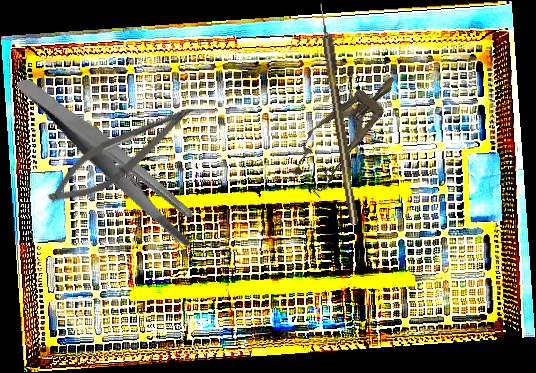Dressing Forceps: (14, 41, 207, 277)
Hook Surgical: (317, 2, 360, 226)
Micro Scissor: (39, 85, 203, 221)
Pusher: (91, 124, 197, 268)
Speculum: (280, 59, 414, 200)
